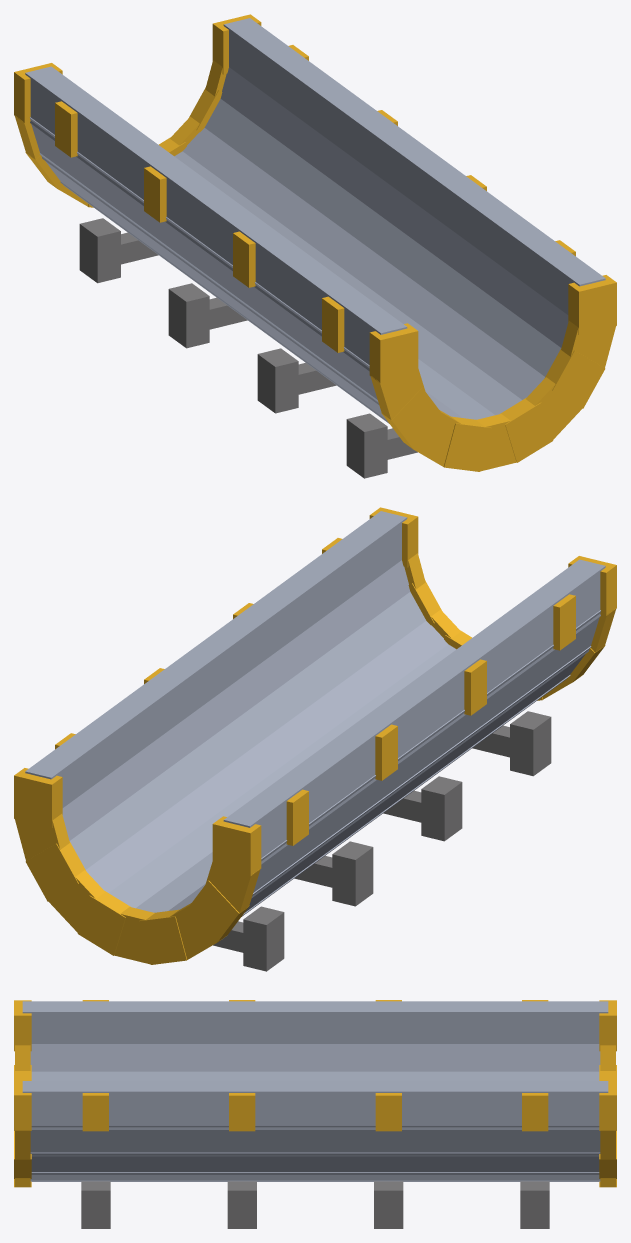
File: chute.glb
3 renders of one model, top to bottom at view 1: azimuth 30°, elevation 25°; view 2: azimuth 150°, elevation 25°; view 3: azimuth 270°, elevation 25°, orthographic. The views are drawn at different scales.
Visible parts, largest first — view 1: chute; view 2: chute; view 3: chute.
Part boxes in pixels (x1=…): chute: x1=14, y1=14, x2=616, y2=478; chute: x1=14, y1=507, x2=616, y2=971; chute: x1=14, y1=1000, x2=616, y2=1228.
Bounding box in the file's own units: 0.75 × 0.53 × 2.
